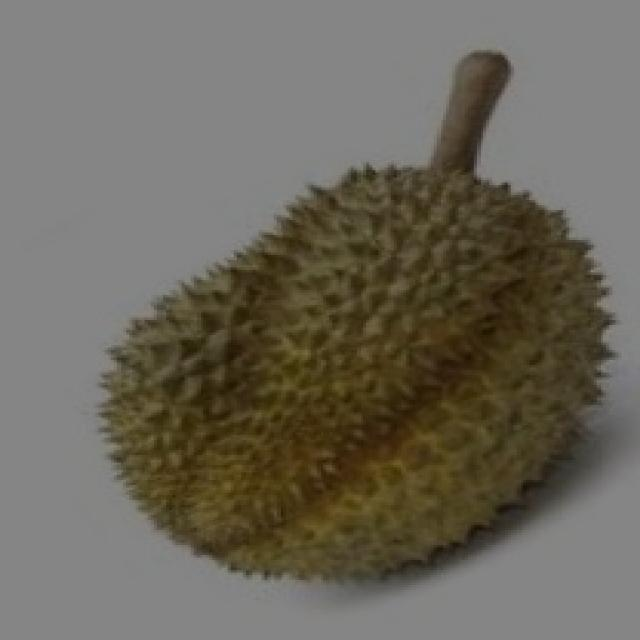fruit: (264, 187, 640, 624), (56, 225, 422, 625)
